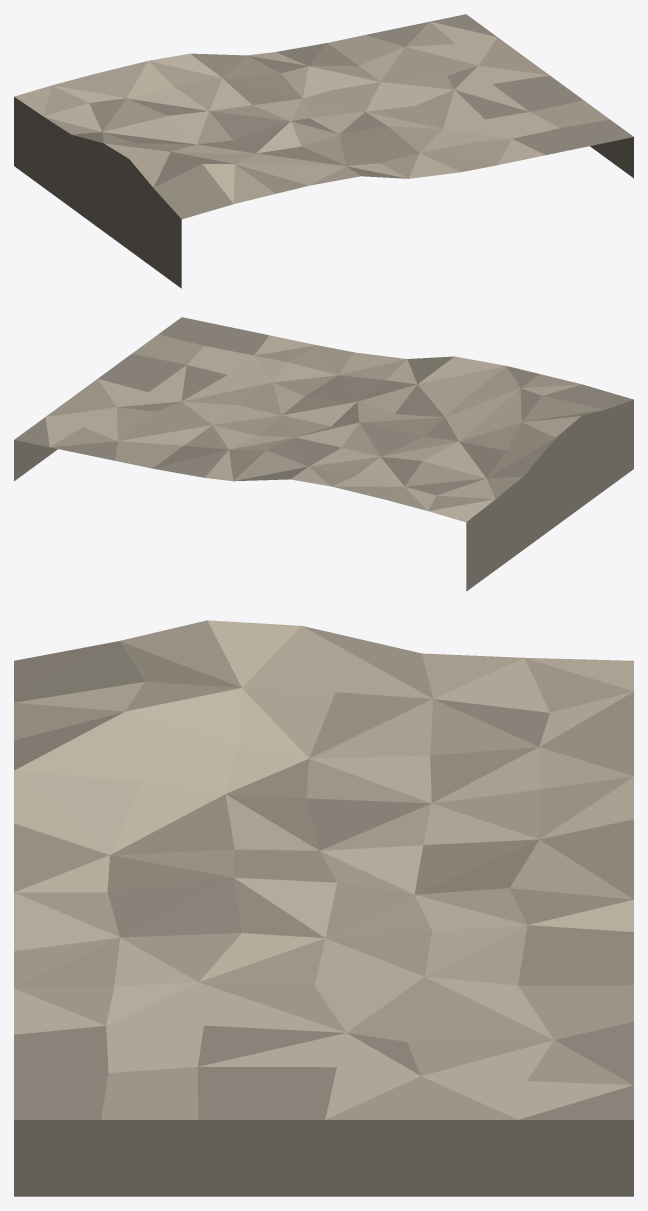
The model's file is playa_teselada_gris.obj.
3 renders of one model, top to bottom at view 1: azimuth 30°, elevation 25°; view 2: azimuth 150°, elevation 25°; view 3: azimuth 270°, elevation 25°, orthographic. The views are drawn at different scales.
Visible parts, largest first — view 1: playa_teselada_gris; view 2: playa_teselada_gris; view 3: playa_teselada_gris.
Part boxes in pixels (left/top/right/bottom): playa_teselada_gris: left=14, top=14, right=633, bottom=288; playa_teselada_gris: left=14, top=317, right=633, bottom=591; playa_teselada_gris: left=14, top=620, right=633, bottom=1196.
Size of the model in its own units: 14 by 2.7 by 9.
